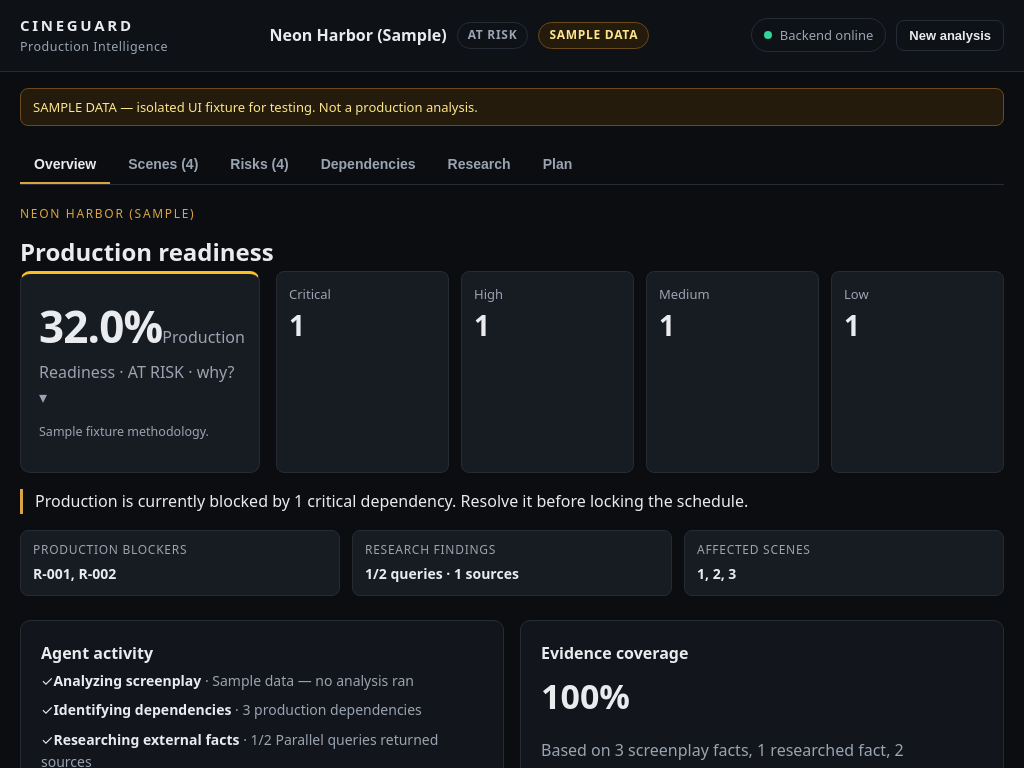
Test: Command Center › opens a risk detail panel with evidence and dependencies
What coordinates should you click on to do the following:
click the tab "Risks (4)"
I would click on:
 (260, 165)
Its box is [216, 146, 303, 184].
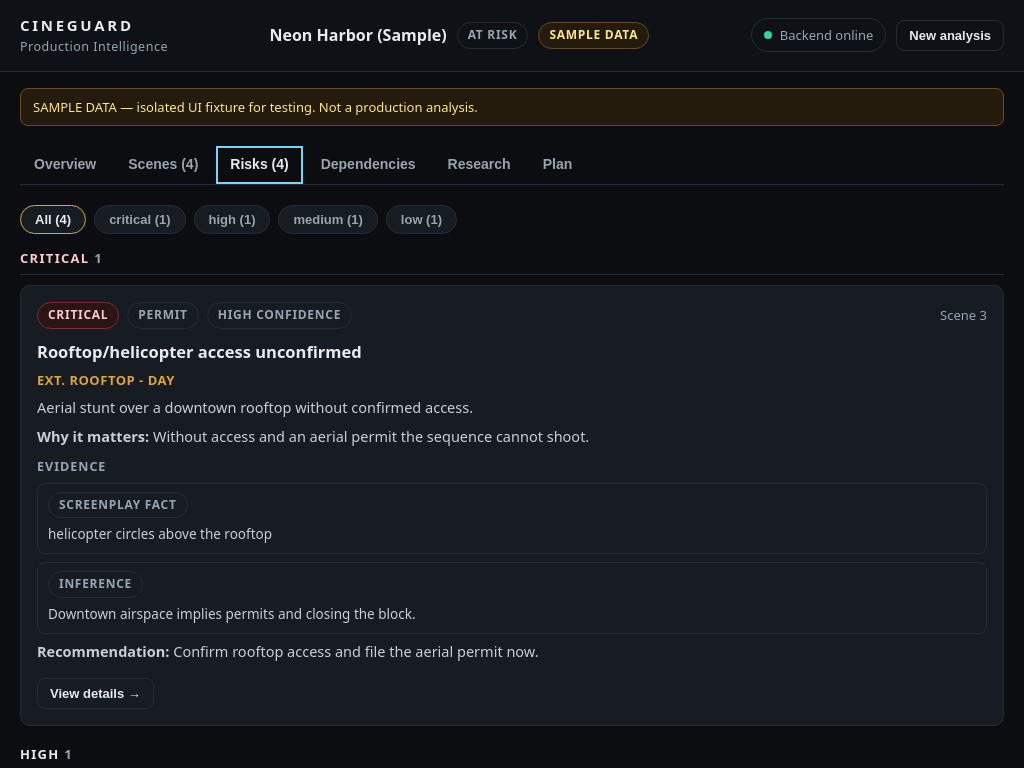
What coordinates should you click on to do the following:
click the button with aria-label "open details"
I would click on:
 (95, 694)
Its box is [37, 678, 154, 709].
(page scrolled)
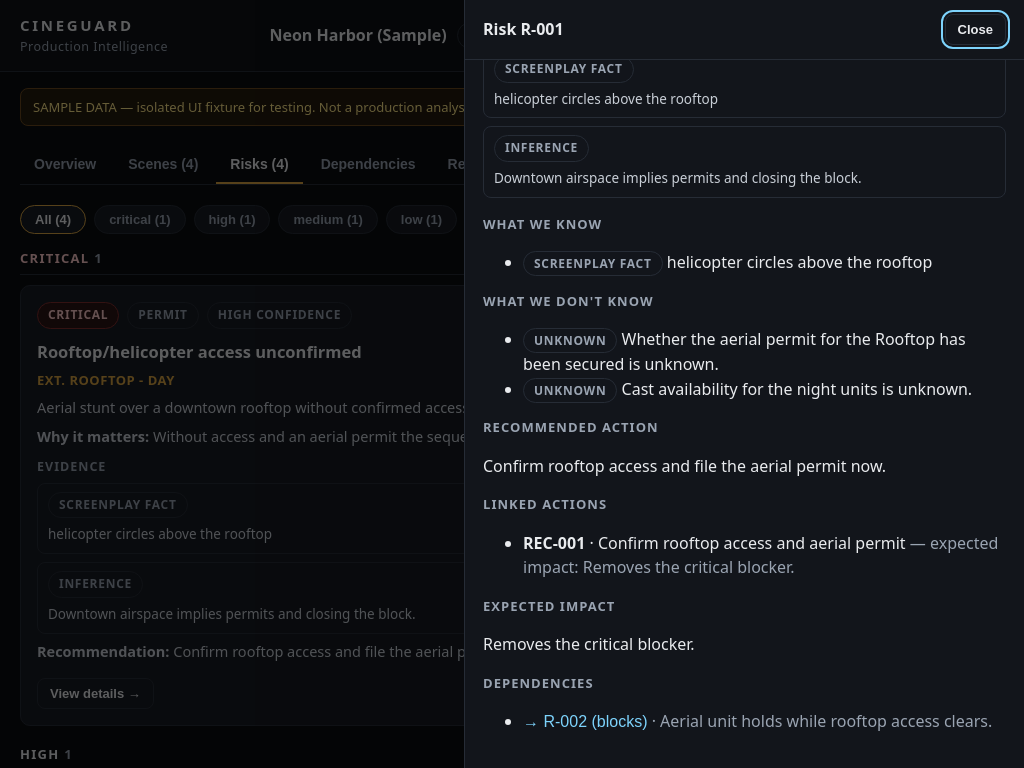
Check: the text "INFERENCE" is shown, box [494, 135, 589, 162]
Check: the button "→ R-002 (blocks)" is shown, box [523, 713, 648, 731]
